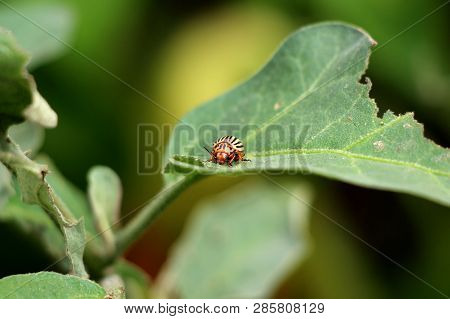hrosc: (208, 131, 250, 173)
